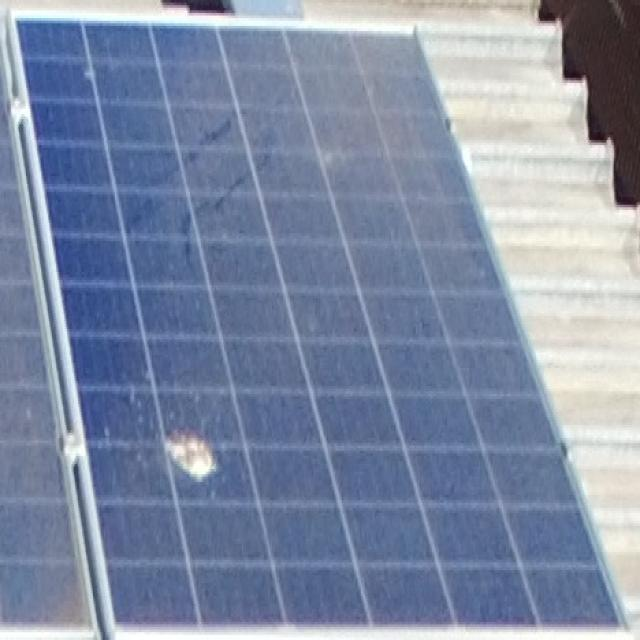Dust: (251, 17, 489, 340)
bird-droppings: (162, 426, 224, 484), (82, 60, 99, 90)
